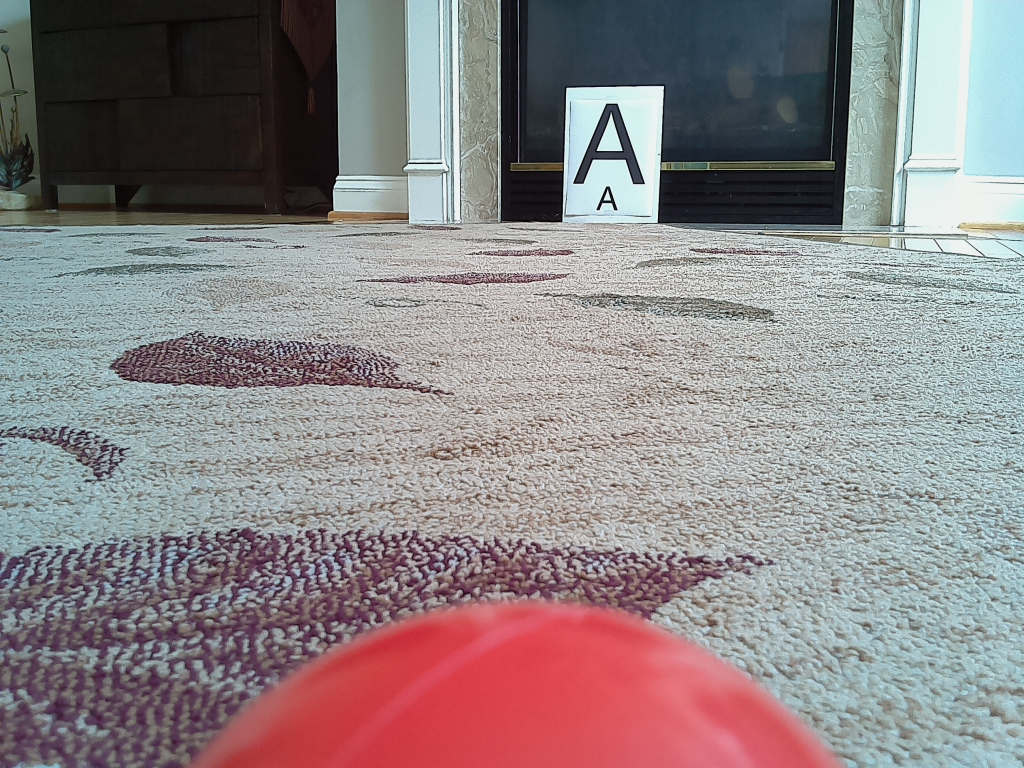letter: (572, 103, 643, 187)
